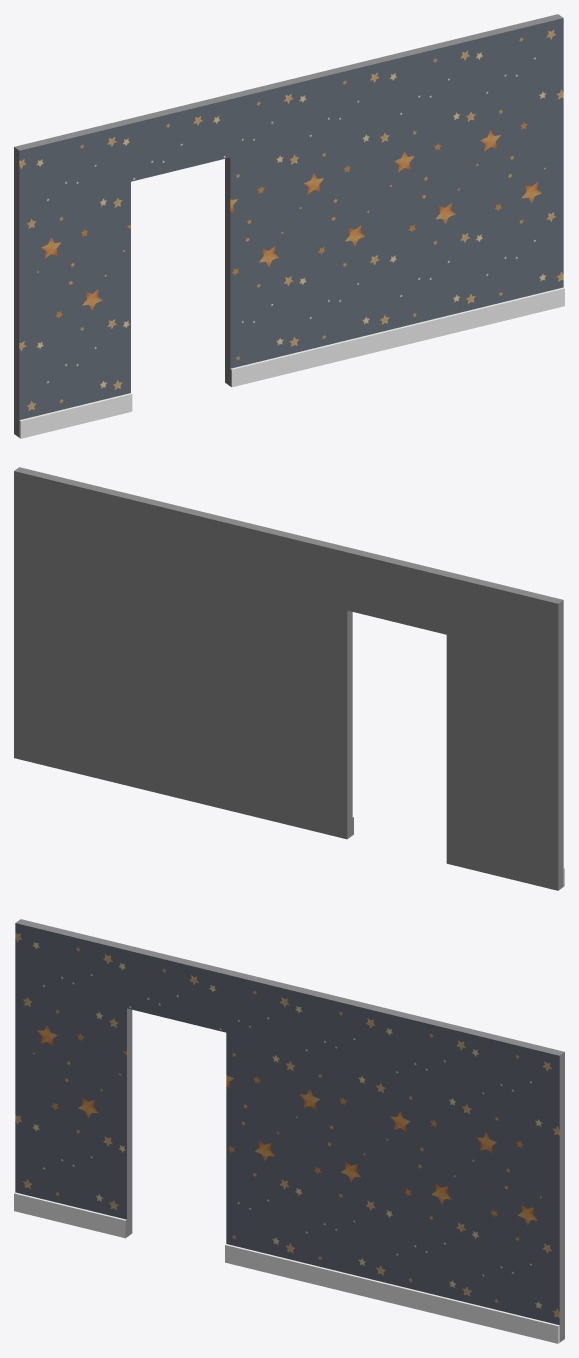
The model's file is Wall 1.fbx.
3 views of the same model, one above another, from view 1: azimuth 30°, elevation 25°; view 2: azimuth 150°, elevation 25°; view 3: azimuth 330°, elevation 25° (orthographic).
Visible parts, largest first — view 1: Wall 1; view 2: Wall 1; view 3: Wall 1.
Part boxes in pixels (x1=…): Wall 1: x1=14, y1=14, x2=564, y2=438; Wall 1: x1=14, y1=467, x2=564, y2=890; Wall 1: x1=14, y1=919, x2=564, y2=1343.
Size of the model in its own units: 517 by 261 by 11.21.
3 materials, 1 textured.
